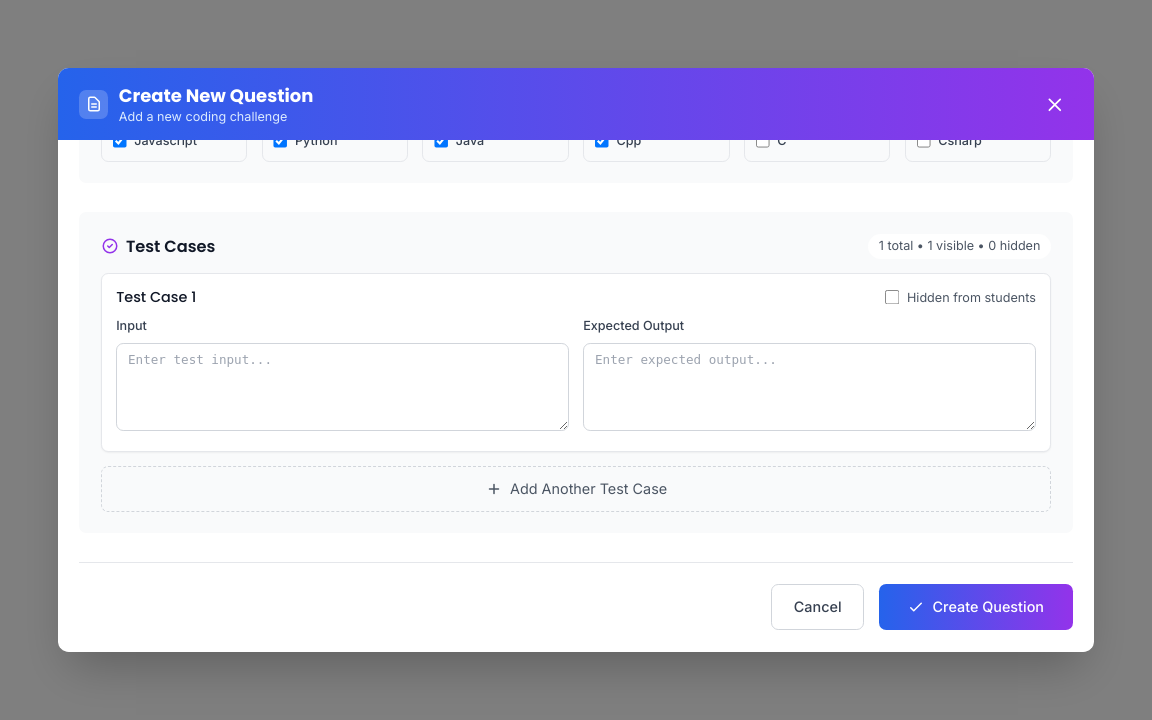
Test: QuestionForm Component › Test Cases Section › allows adding multiple test cases
The width and height of the screenshot is (1152, 720).
(page scrolled)
Click the button "Add Another Test Case" at {"x": 576, "y": 489}, box [101,466,1051,512]
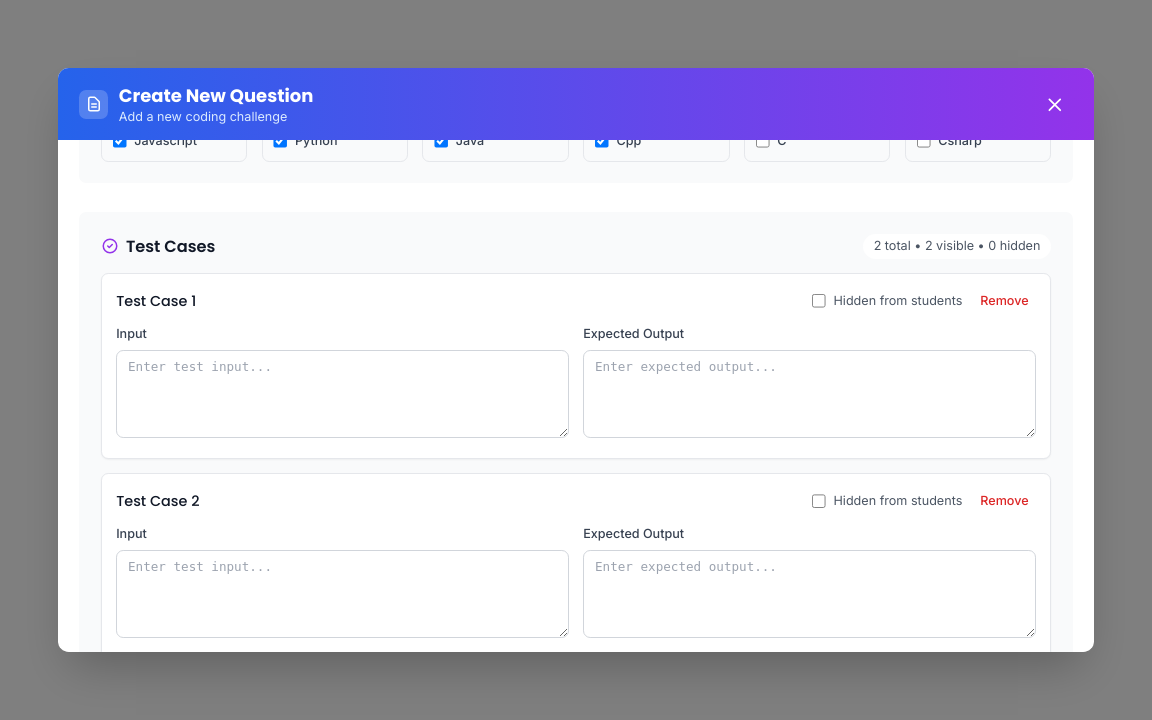
Now the heading "Test Case 2" is shown, box [116,493,200,510]
